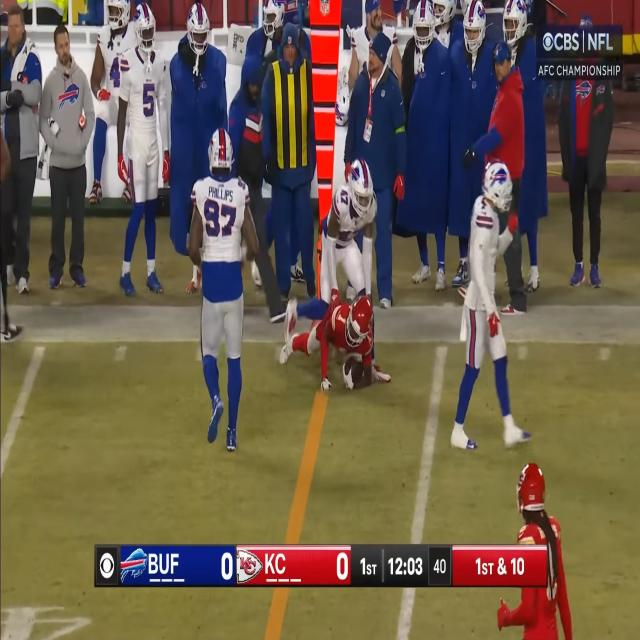Ball: (343, 355, 365, 391)
